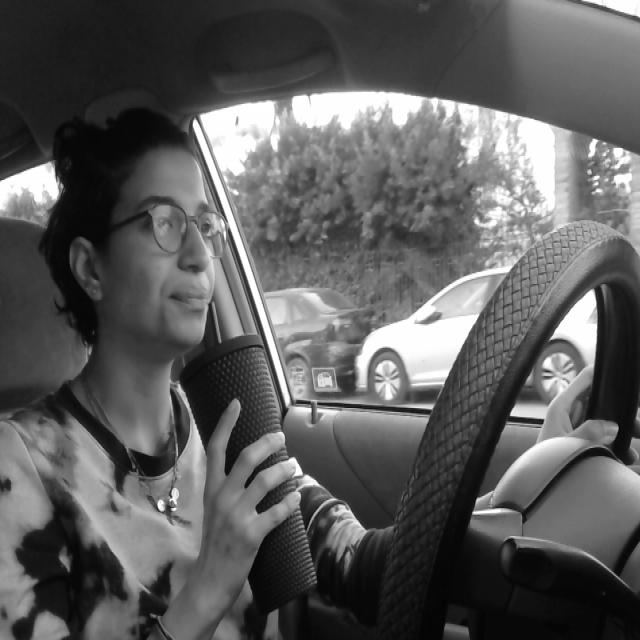drinking: (178, 298, 322, 608)
